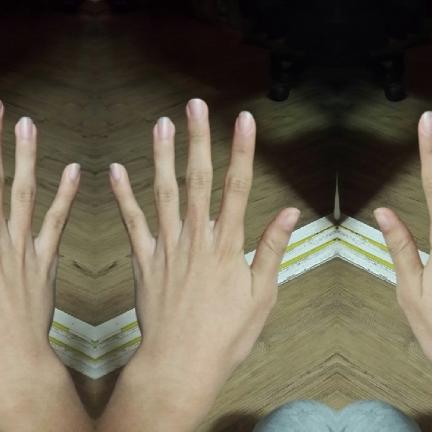Nail: (373, 207, 391, 229), (283, 207, 300, 229), (156, 117, 171, 141), (238, 112, 253, 136), (17, 117, 32, 141), (188, 98, 204, 118), (421, 112, 432, 136), (108, 163, 121, 182), (67, 163, 80, 182)
